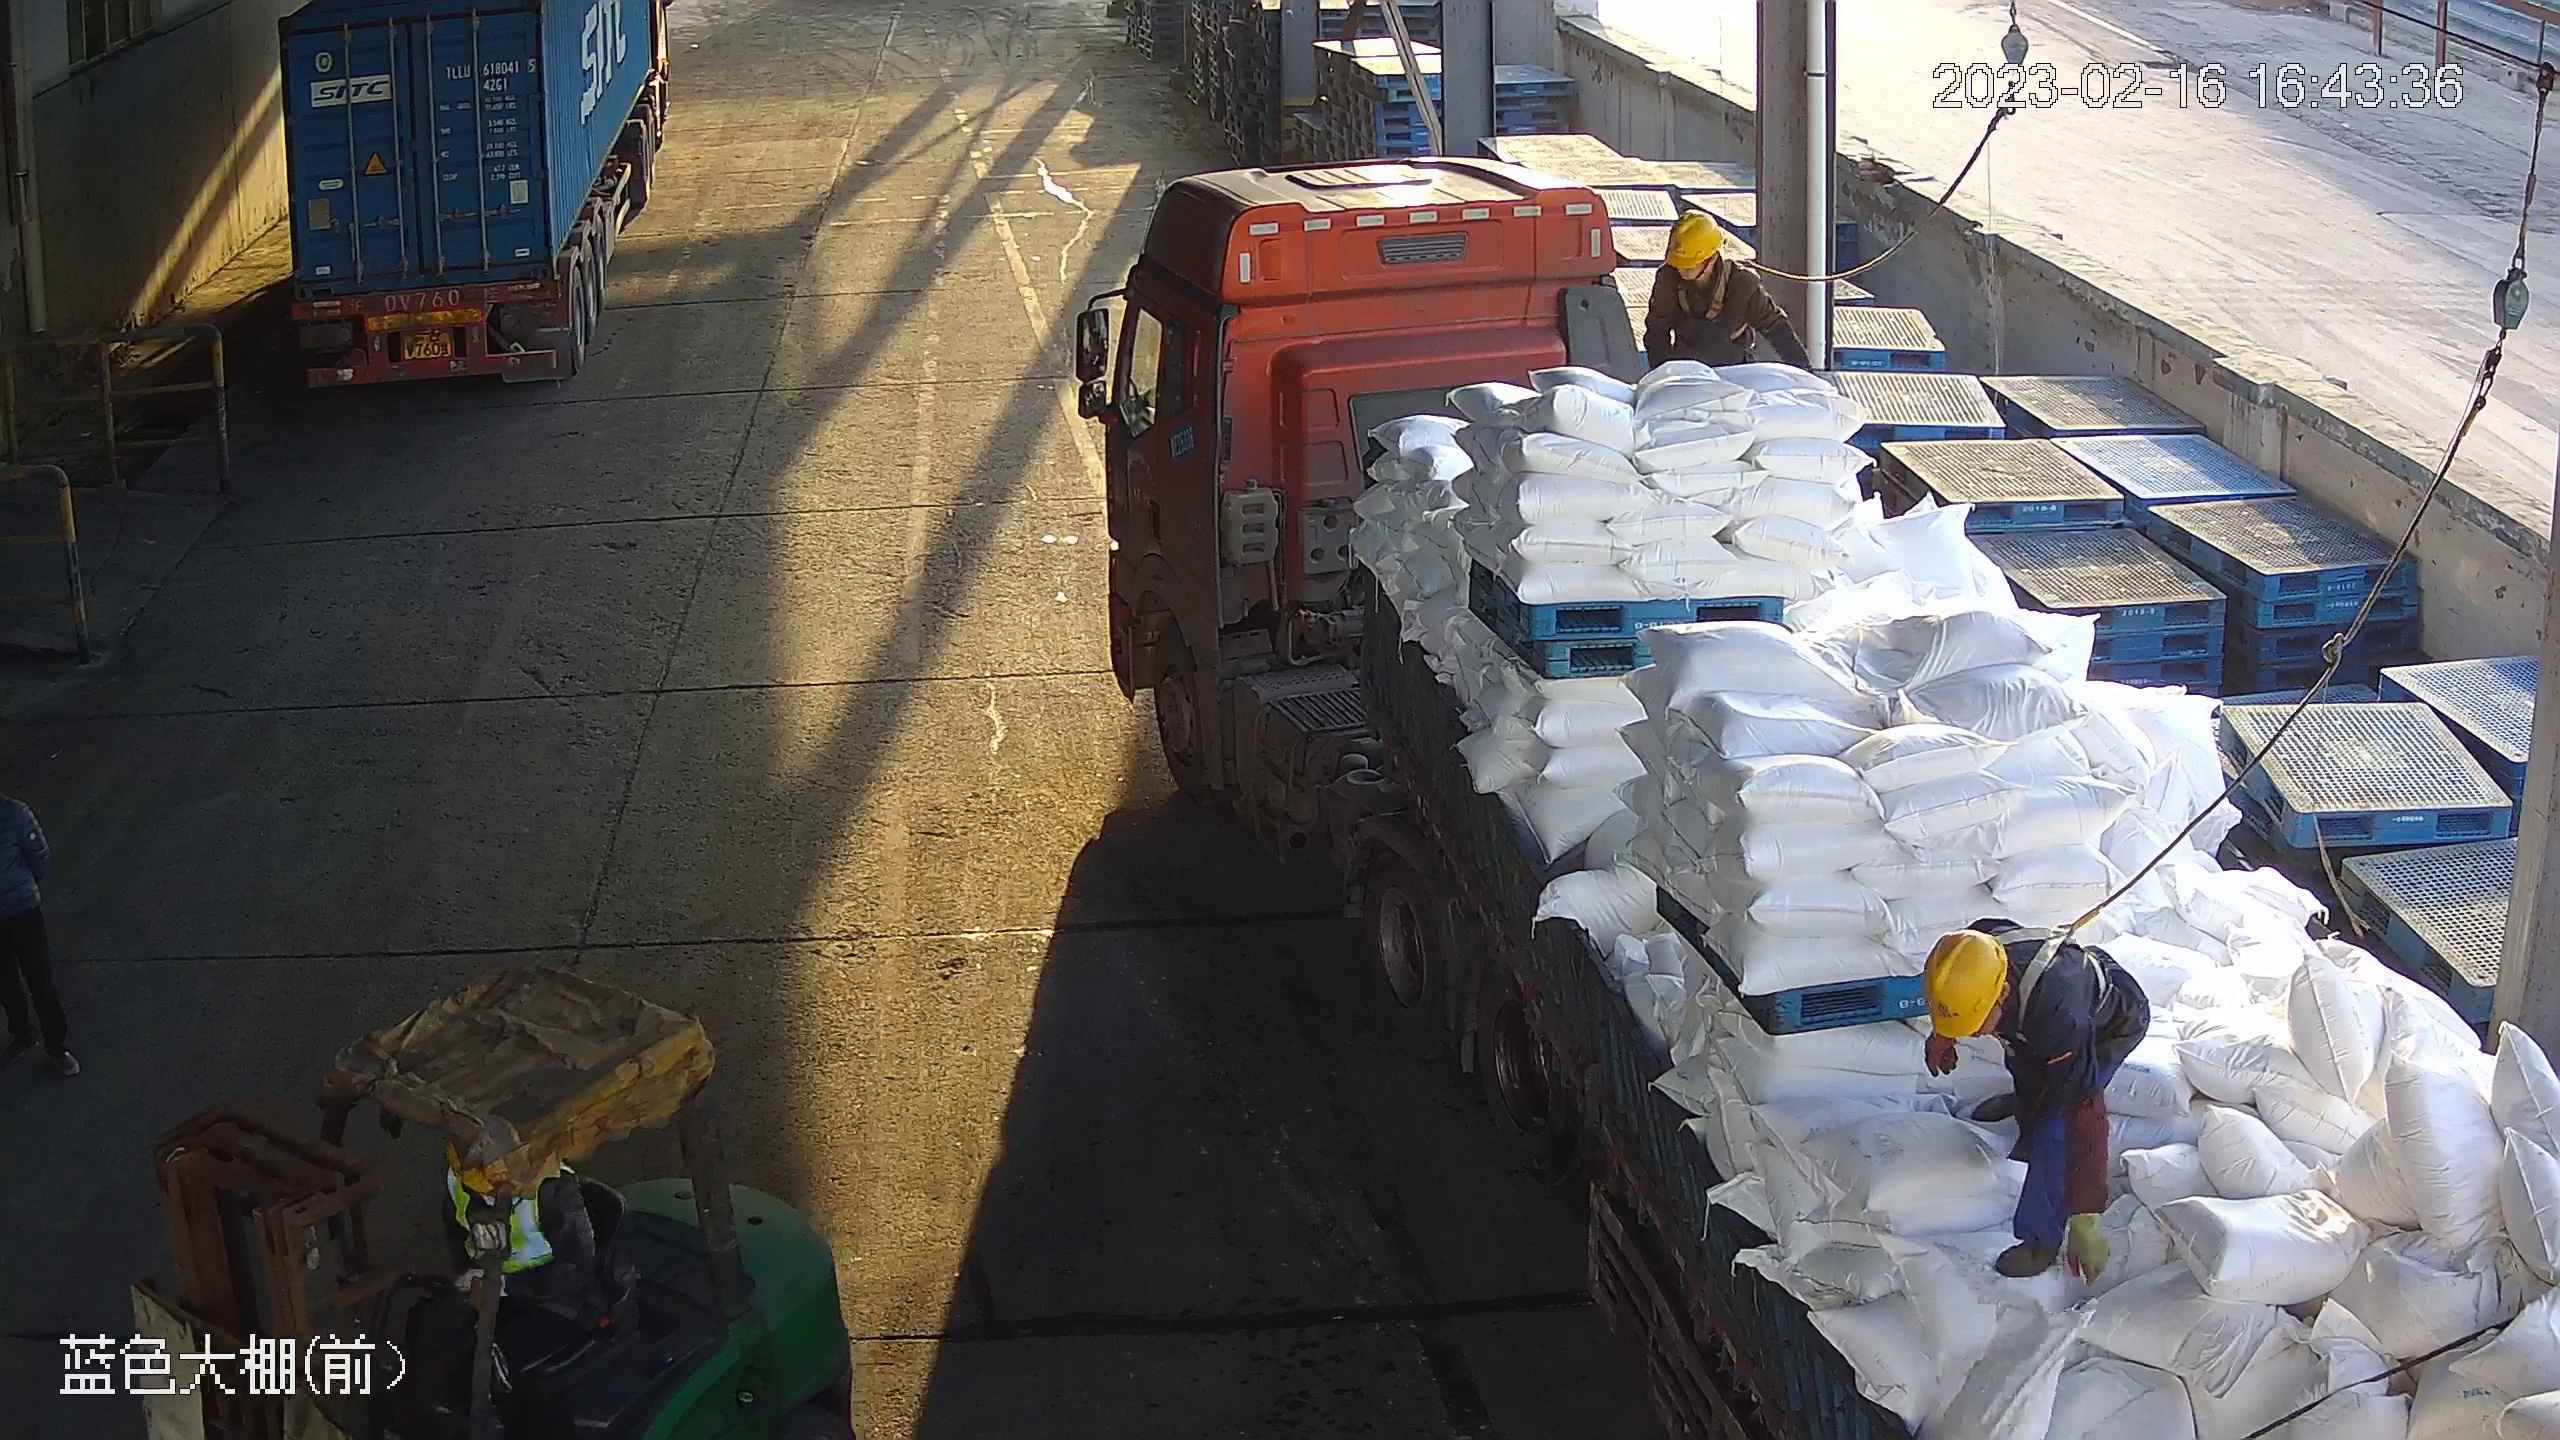belt: (1997, 906, 2110, 1044), (1677, 256, 1758, 340)
head: (1918, 919, 2092, 1051), (1654, 209, 1757, 301)
helmet: (1921, 930, 2009, 1038), (1664, 208, 1723, 268)
people: (1922, 917, 2152, 1284), (1643, 209, 1816, 371)
truck: (1074, 157, 2560, 1440), (274, 1, 667, 390)
